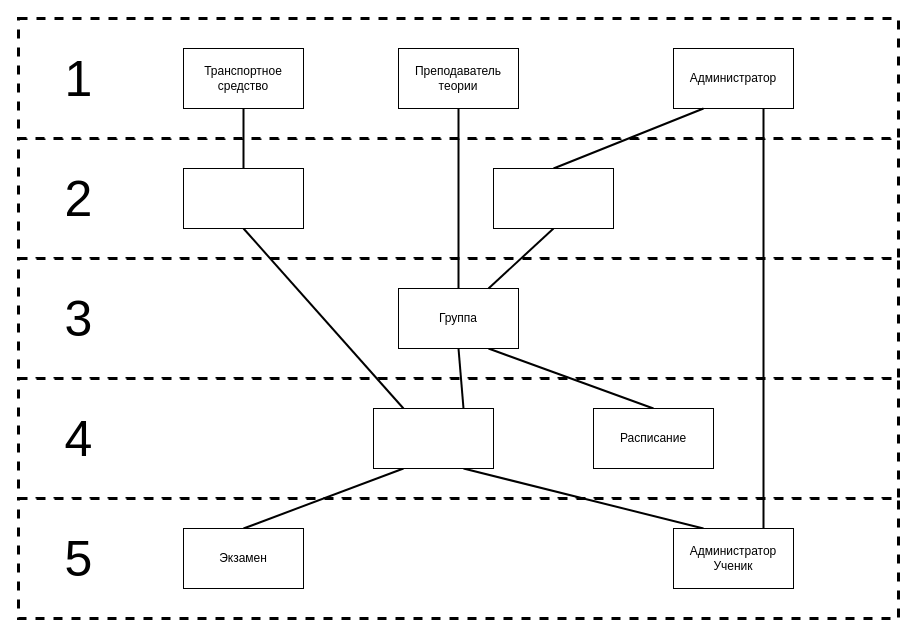
This 917x637 diagram has some shape labels left out. The centre of each missing label's shape, as x and y in pixels:
"Преподаватель практики" goes at [243,198].
"Ученик" goes at [433,438].
"Филиал" goes at [553,198].
